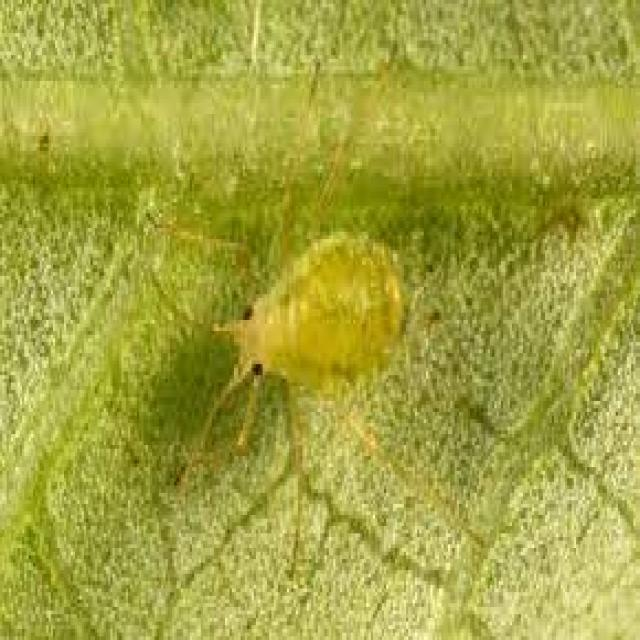Aphids: (144, 184, 460, 526)
